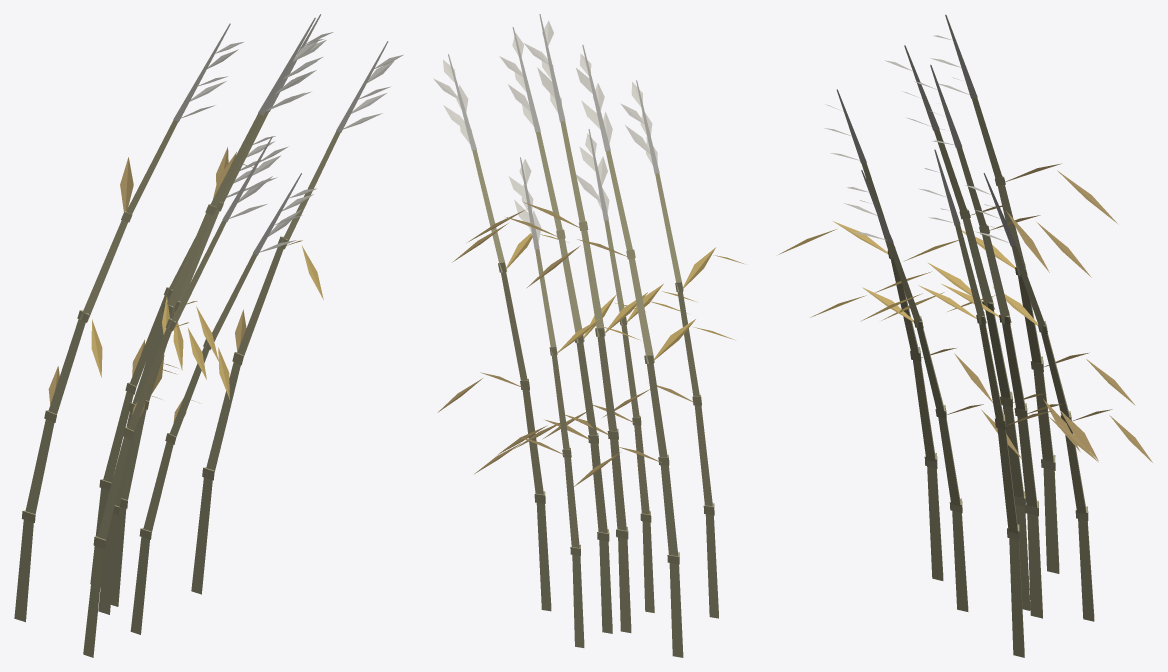
The model's file is shui.luweicong@subadult__autumn.glb.
3 renders of one model, left to right at view 1: azimuth 30°, elevation 25°; view 2: azimuth 150°, elevation 25°; view 3: azimuth 270°, elevation 25°, orthographic. The views are drawn at different scales.
Parts seen in each view (by area): view 1: shui.luweicong@subadult__autumn; view 2: shui.luweicong@subadult__autumn; view 3: shui.luweicong@subadult__autumn.
Boxes of the visible parts, bbox=[...] form: shui.luweicong@subadult__autumn: bbox=[14, 14, 403, 657]; shui.luweicong@subadult__autumn: bbox=[433, 14, 743, 657]; shui.luweicong@subadult__autumn: bbox=[778, 14, 1152, 657].
Bounding box in the file's own units: 1.1 × 1.92 × 1.02.
